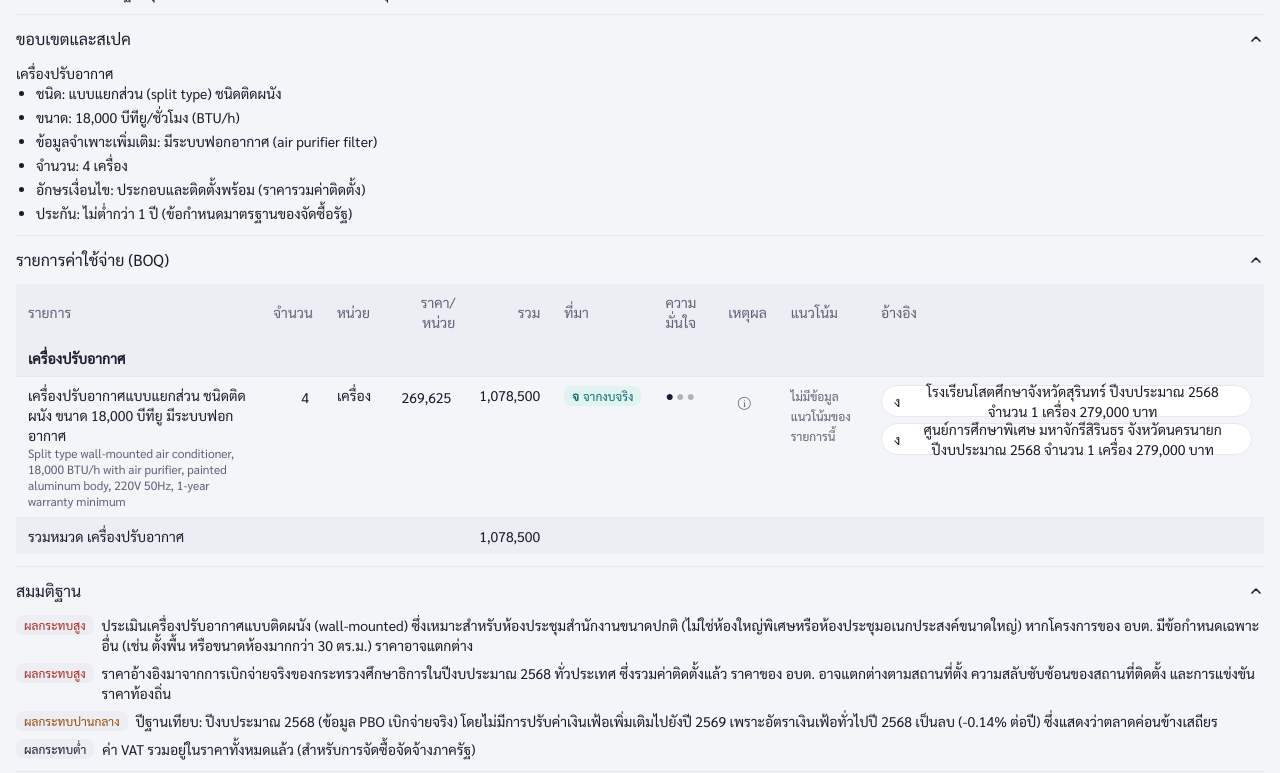
Test: ProposalPaneContainer — ต่อกับ proposalStore › แก้ qty ในตาราง BOQ → proposalStore มี version ใหม่ source "user_edit" + badge แก้โดยผู้ใช้
(page scrolled)
Step 1. Click the button named "แก้จำนวนของ" → (293, 397), box [273,385,313,409]
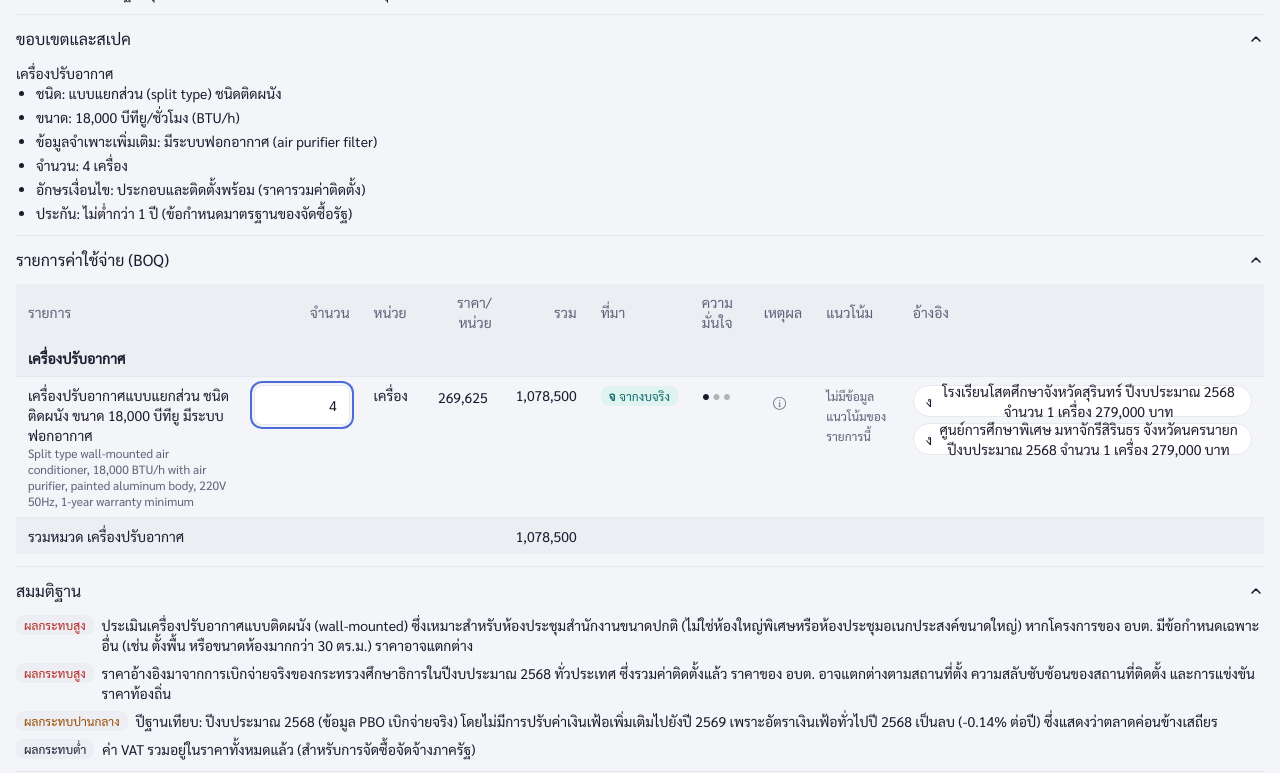
Step 2. Replace the text in the field with "10" → (302, 405), box [254,385,350,425]
Then press Enter
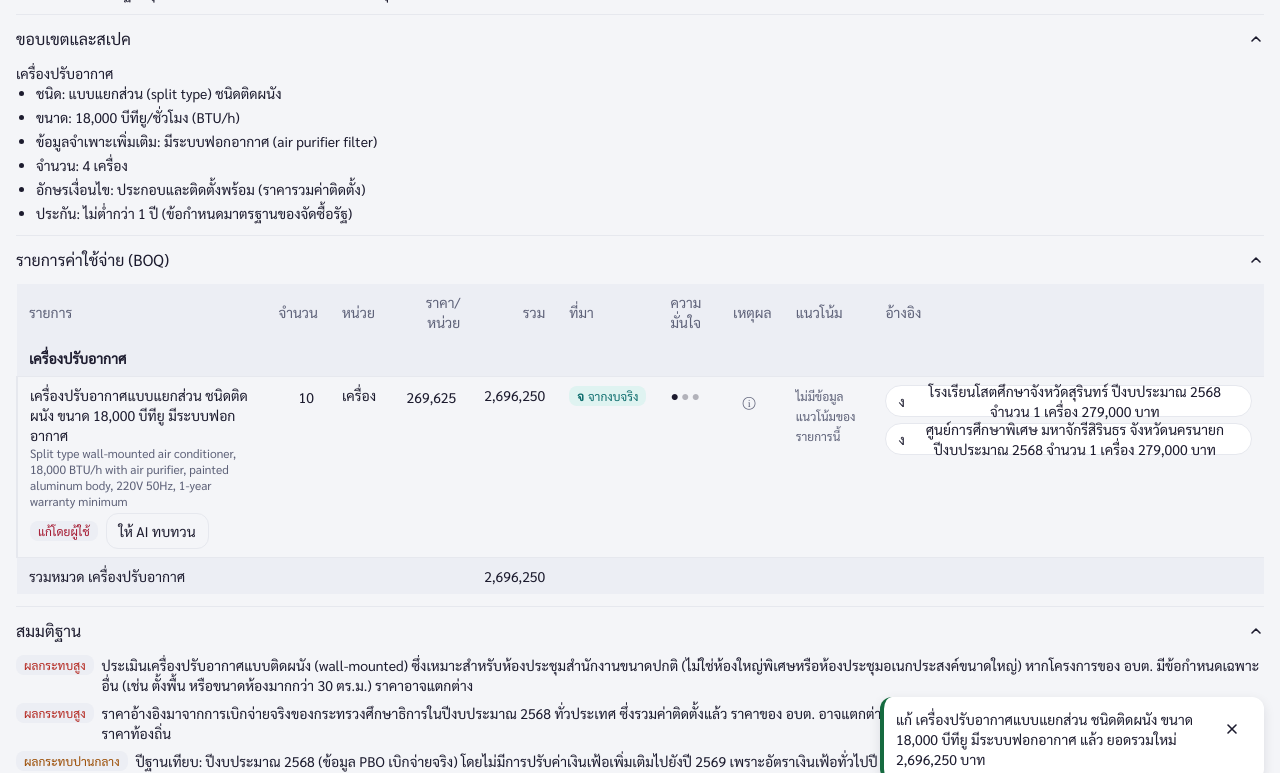
Now the text "แก้โดยผู้ใช้" is shown, box [30,521,98,541]
